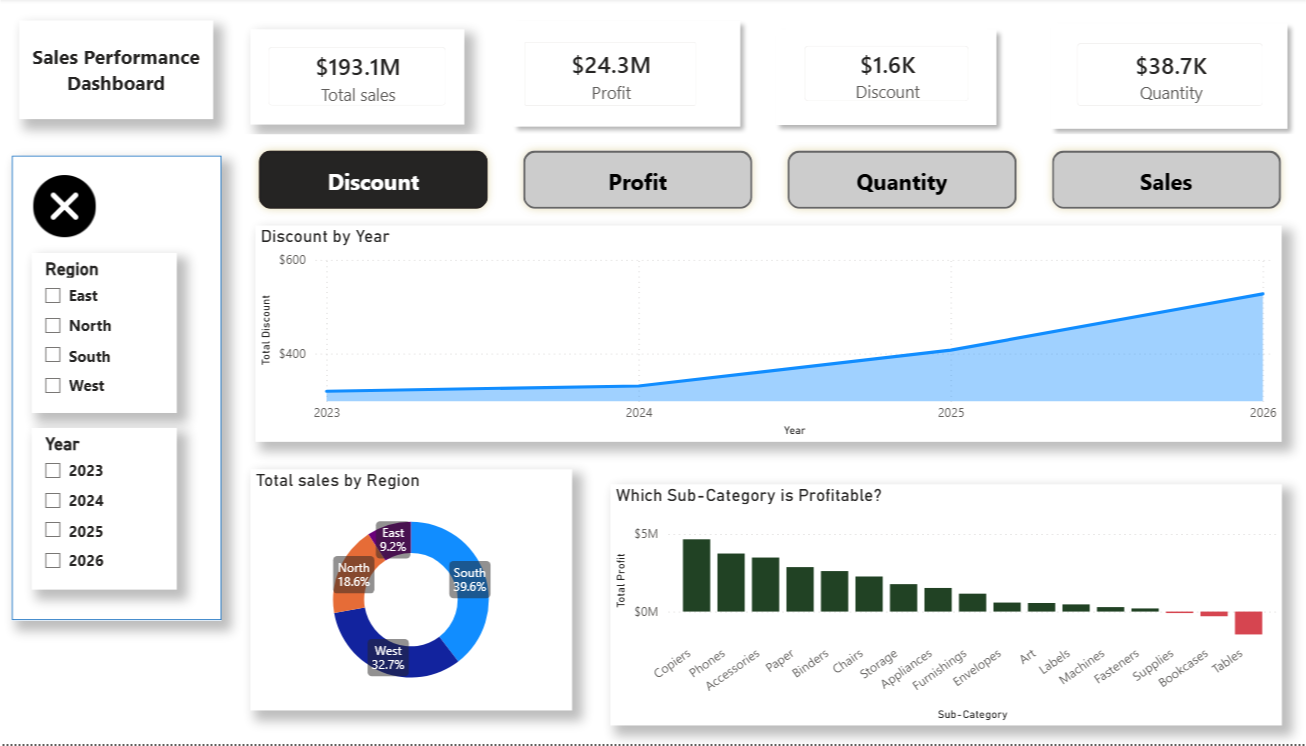

What the dashboard file says about the page in this screenshot:
{"tool":"powerbi","page":{"name":"Drill up and down","canvas":[1280,720],"ordinal":1},"visuals":[{"type":"cardVisual","fields":{"Data":["_Measures.Total sales"]},"box":[246.1,30.2,206.3,91.7],"z":0},{"type":"shape","box":[491,13.3,236.5,119.4],"z":1000},{"type":"cardVisual","fields":{"Data":["_Measures.Total Profit"]},"box":[493.4,25.3,200.3,96.5],"z":2000},{"type":"shape","box":[744.4,21.7,230.4,109.8],"z":3000},{"type":"shape","box":[1009.8,15.7,246.1,119.4],"z":5000},{"type":"cardVisual","fields":{"Data":["_Measures.Total Discount"]},"box":[763.7,29,193,88.1],"z":7000},{"type":"cardVisual","fields":{"Data":["_Measures.Total Quantity"]},"box":[1026.7,26.5,214.7,95.3],"z":8000},{"type":"advancedSlicerVisual","fields":{"Values":["select_Parameters.Parameters"]},"box":[218.4,131.5,1061.7,88.1],"z":9000},{"type":"donutChart","fields":{"Category":["Orders.Region"],"Y":["_Measures.Total sales"]},"box":[246.1,454.8,310.1,232.8],"z":10000},{"type":"clusteredColumnChart","title":"Which Sub-Category is Profitable?","fields":{"Category":["Orders.Sub-Category"],"Y":["_Measures.Total Profit"]},"box":[593.6,469.3,647.9,232.8],"z":11000},{"type":"textbox","box":[22.9,21.7,187,95.3],"z":12000},{"type":"areaChart","title":"Discount by Year","fields":{"Category":["Date_Table.Year Hierarchy.Year","Date_Table.Year Hierarchy.Quarter","Date_Table.Year Hierarchy.Month","Date_Table.Year Hierarchy.Date"],"Y":["_Measures.Total Discount"]},"box":[250.9,219.6,990.5,208.7],"z":13000},{"type":"shape","box":[15.6,152.4,202.6,448.5],"z":13500,"group":"g1"},{"type":"slicer","fields":{"Values":["Orders.Region"]},"box":[34.6,245.9,140.3,154.1],"z":16000,"group":"g1"},{"type":"slicer","fields":{"Values":["Date_Table.Year Hierarchy.Year"]},"box":[34.6,415.6,140.3,155.8],"z":17000,"group":"g1"},{"type":"image","title":"Cancel Image","box":[36.4,162.8,60.6,76.2],"z":17500,"group":"g1"},{"type":"group","id":"g1","title":" slicer Panel","box":[15.6,150.8,202.6,450.1],"z":17501}]}

Visuals, with their boxes in screenshot pixels (x1, y1, x2, y2), scaled from the page's 1280x720 canvas onto the 1306x746 screenshot:
cardVisual - _Measures.Total sales: region(251, 31, 462, 126)
shape: region(501, 14, 742, 137)
cardVisual - _Measures.Total Profit: region(503, 26, 708, 126)
shape: region(760, 22, 995, 136)
shape: region(1030, 16, 1281, 140)
cardVisual - _Measures.Total Discount: region(779, 30, 976, 121)
cardVisual - _Measures.Total Quantity: region(1048, 27, 1267, 126)
advancedSlicerVisual - select_Parameters.Parameters: region(223, 136, 1305, 228)
donutChart - Orders.Region x _Measures.Total sales: region(251, 471, 567, 712)
"Which Sub-Category is Profitable?" clusteredColumnChart: region(606, 486, 1267, 727)
textbox: region(23, 22, 214, 121)
"Discount by Year" areaChart: region(256, 228, 1267, 444)
shape: region(16, 158, 223, 623)
slicer - Orders.Region: region(35, 255, 178, 414)
slicer - Date_Table.Year Hierarchy.Year: region(35, 431, 178, 592)
"Cancel Image" image: region(37, 169, 99, 248)
" slicer Panel" group: region(16, 156, 223, 623)
